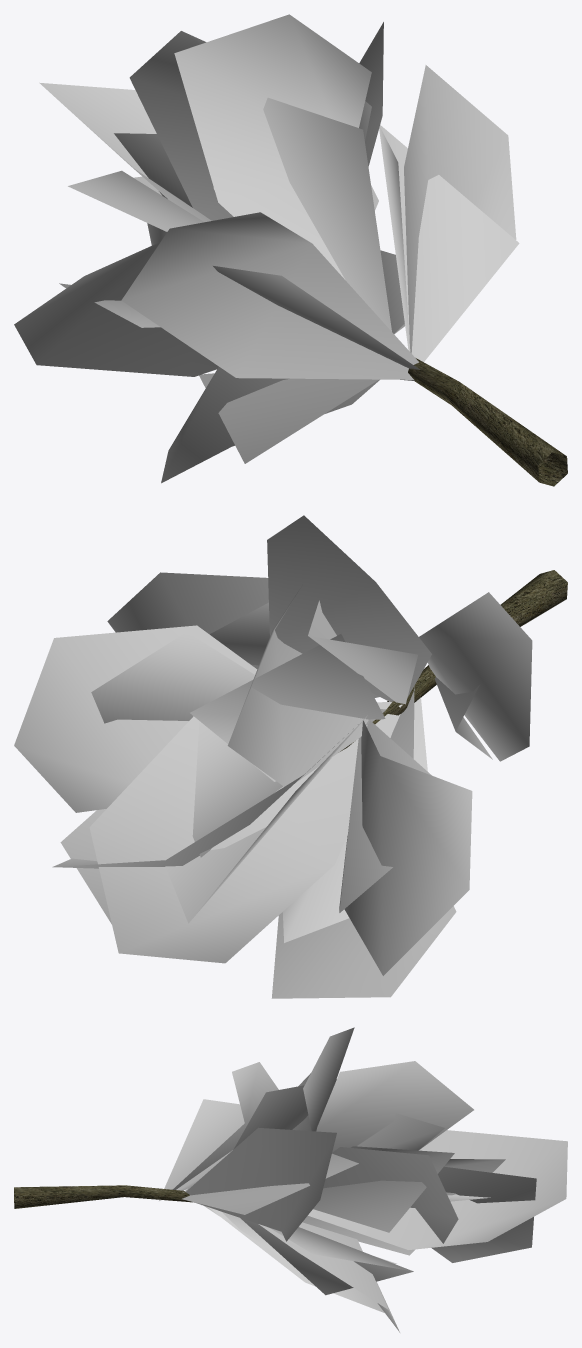
Rendered from Tree_04_d.fbx.
3 views of the same model, one above another, from view 1: azimuth 30°, elevation 25°; view 2: azimuth 150°, elevation 25°; view 3: azimuth 270°, elevation 25° (orthographic). The views are drawn at different scales.
Parts seen in each view (by area): view 1: MEP_Leafs_04_d, MEP_Bark_04_d; view 2: MEP_Leafs_04_d, MEP_Bark_04_d; view 3: MEP_Leafs_04_d, MEP_Bark_04_d.
Boxes of the visible parts, bbox=[...] form: MEP_Leafs_04_d: bbox=[14, 14, 519, 483]; MEP_Bark_04_d: bbox=[408, 358, 567, 486]; MEP_Leafs_04_d: bbox=[14, 515, 532, 998]; MEP_Bark_04_d: bbox=[340, 570, 567, 751]; MEP_Leafs_04_d: bbox=[159, 1027, 567, 1332]; MEP_Bark_04_d: bbox=[14, 1185, 192, 1208].
Bounding box in the file's own units: 6.47 × 6.59 × 11.8.
